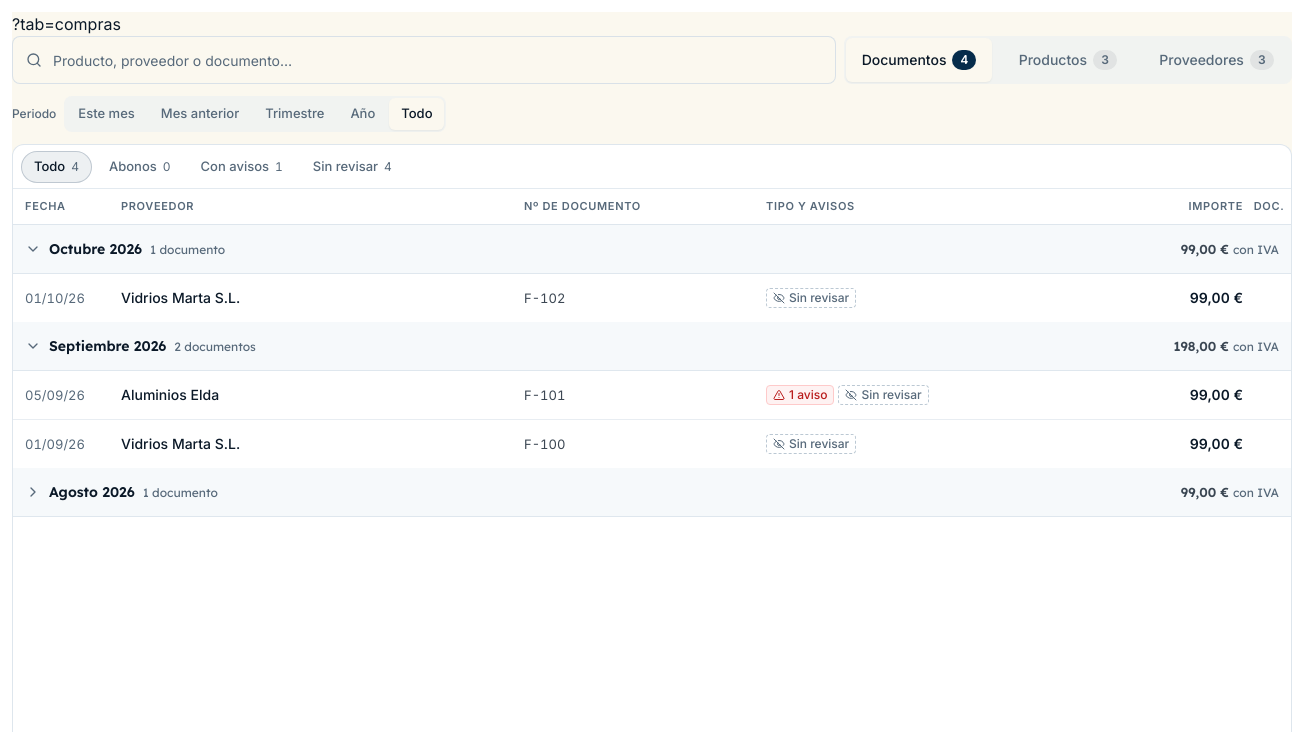
Compras · chips por modo › los chips cuentan lo que hay para el texto buscado
Expected: the text "F-100" is shown, [524,436,565,452]
Type "espejo" into the search field named "Buscar en compras" at (424, 60), box [12,36,836,84]
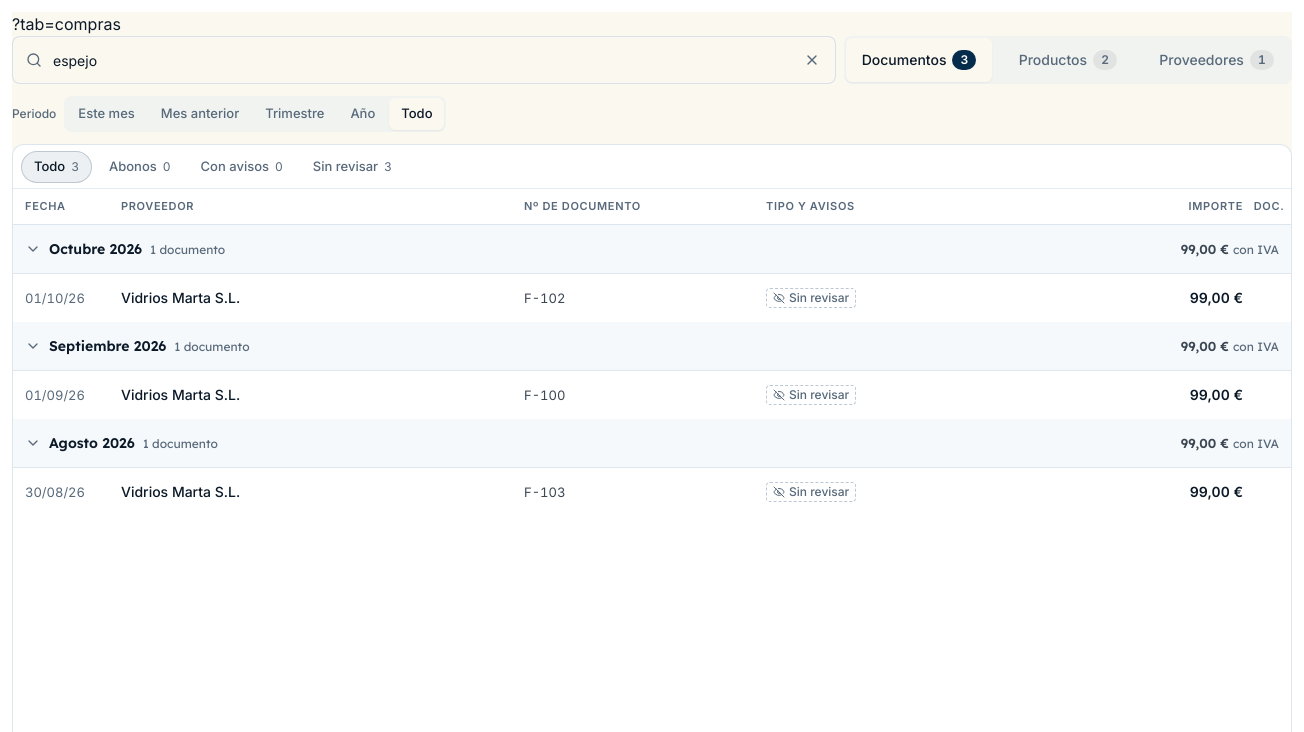
Result: the button "Todo 3" is shown at [21,150,92,182]
Result: the button "Con avisos 0" is shown at [188,150,296,182]
